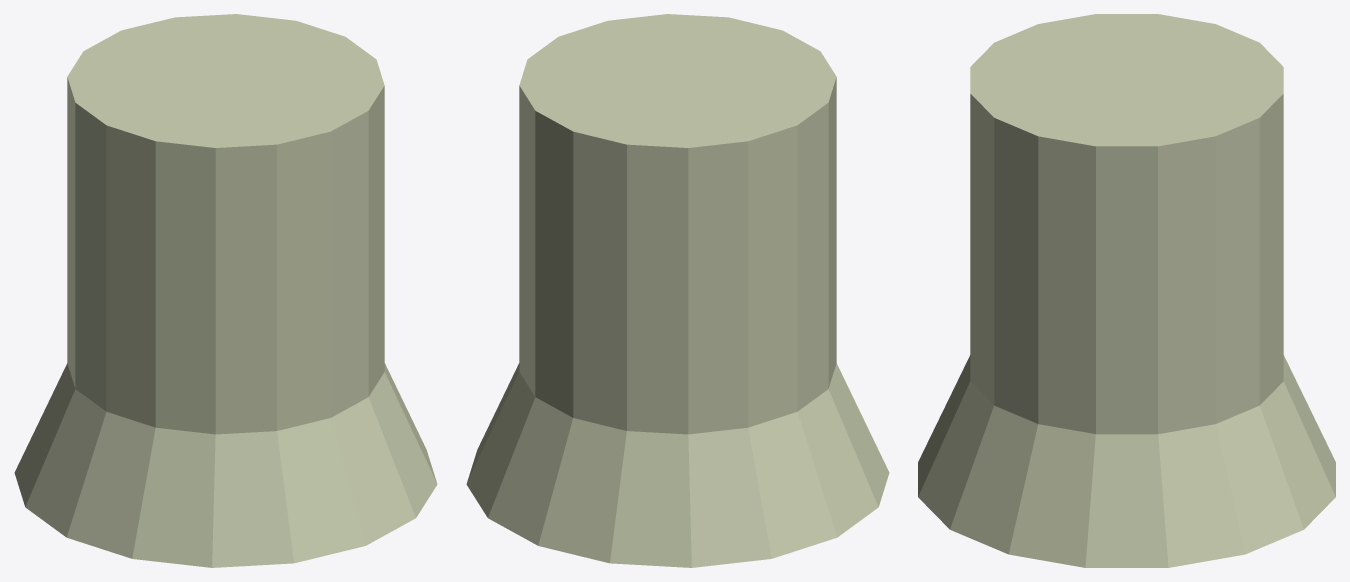
File: Eridani_Crew_1_Collider.obj
3 renders of one model, left to right at view 1: azimuth 30°, elevation 25°; view 2: azimuth 150°, elevation 25°; view 3: azimuth 270°, elevation 25°, orthographic.
Parts seen in each view (by area): view 1: Eridani_Crew_1_Collider1, Eridani_Crew_1_Collider2; view 2: Eridani_Crew_1_Collider1, Eridani_Crew_1_Collider2; view 3: Eridani_Crew_1_Collider1, Eridani_Crew_1_Collider2.
Boxes of the visible parts, box(x1,y1,x2,y2) form: Eridani_Crew_1_Collider1: box(67, 14, 384, 434); Eridani_Crew_1_Collider2: box(14, 363, 437, 567); Eridani_Crew_1_Collider1: box(519, 14, 836, 434); Eridani_Crew_1_Collider2: box(466, 363, 889, 567); Eridani_Crew_1_Collider1: box(970, 14, 1283, 434); Eridani_Crew_1_Collider2: box(918, 355, 1335, 567).
Bounding box in the file's own units: 2.5 × 2.64 × 2.5.
